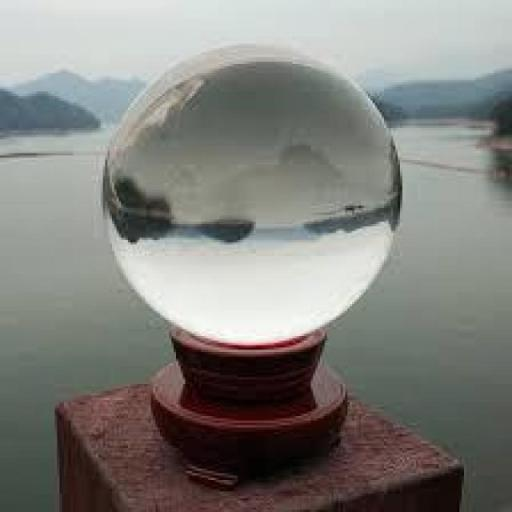glass: (80, 26, 420, 344)
